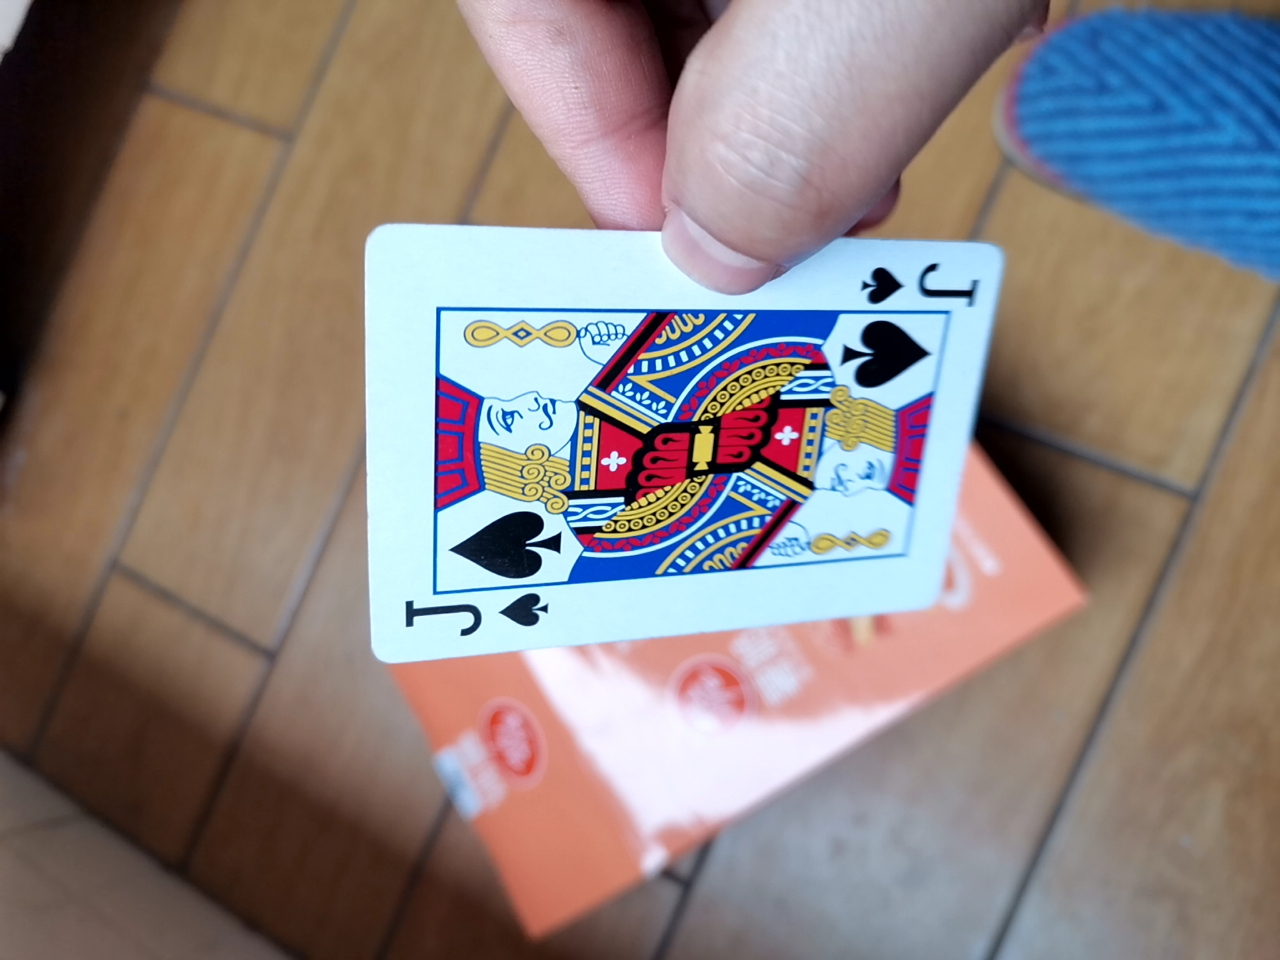ht j: (321, 221, 1006, 703)
